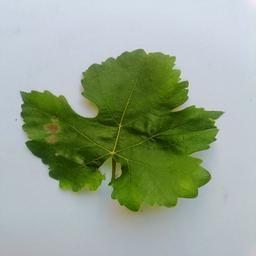Powdery-Mildew: (43, 109, 68, 148), (80, 172, 97, 189), (180, 178, 196, 195), (69, 153, 85, 169)
